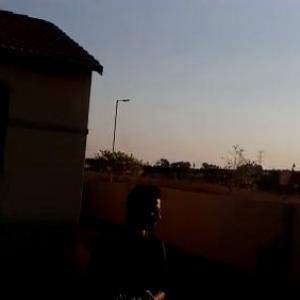follow: (88, 178, 181, 299)
